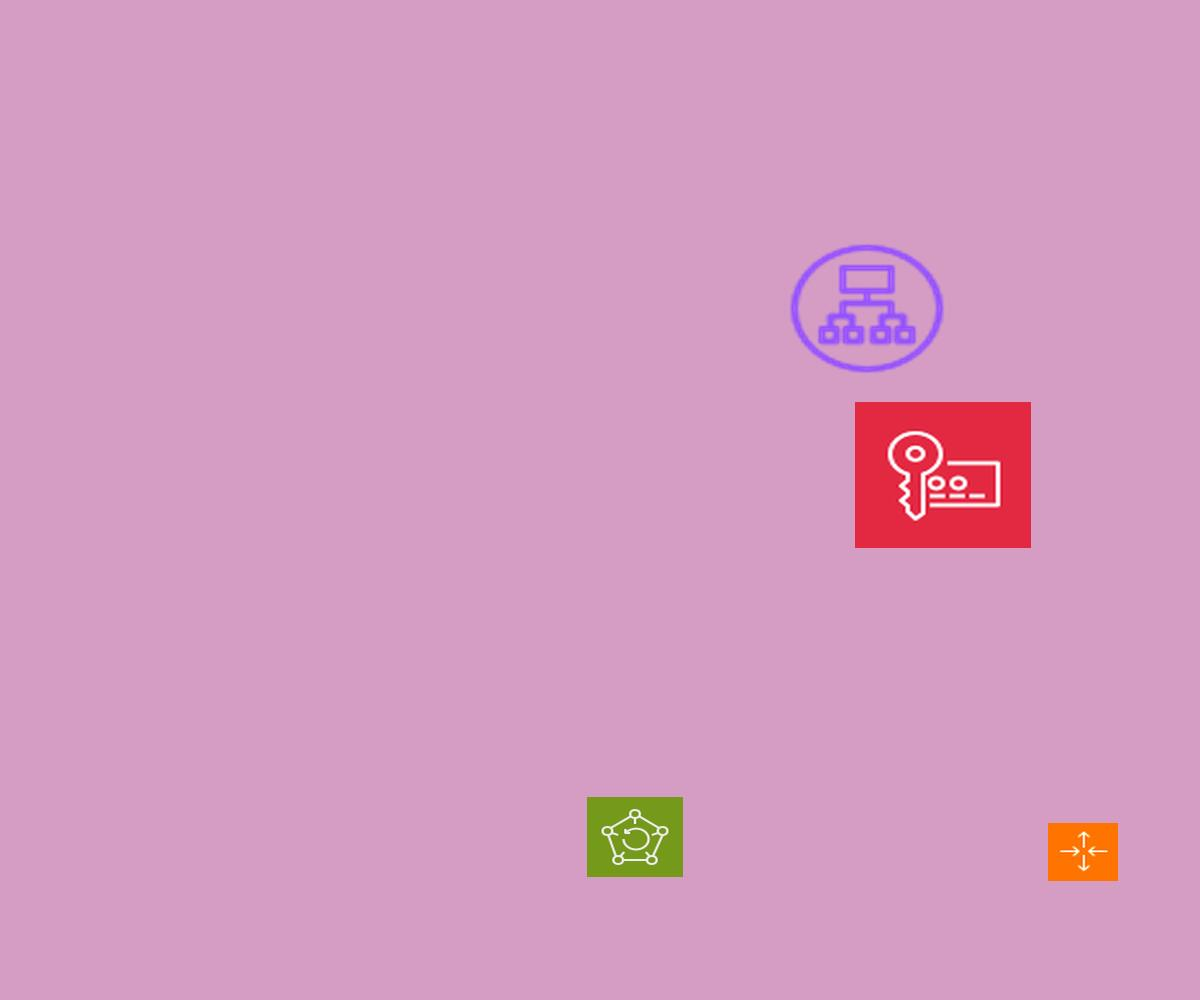AWS-Backup: (587, 797, 683, 877)
AWS-Key-Management-Service: (855, 402, 1031, 548)
AWS-Res_Elastic-Load-Balancing_Application-Load-Balancer: (784, 239, 950, 378)
AWS-Scaling-group: (1048, 823, 1118, 881)
